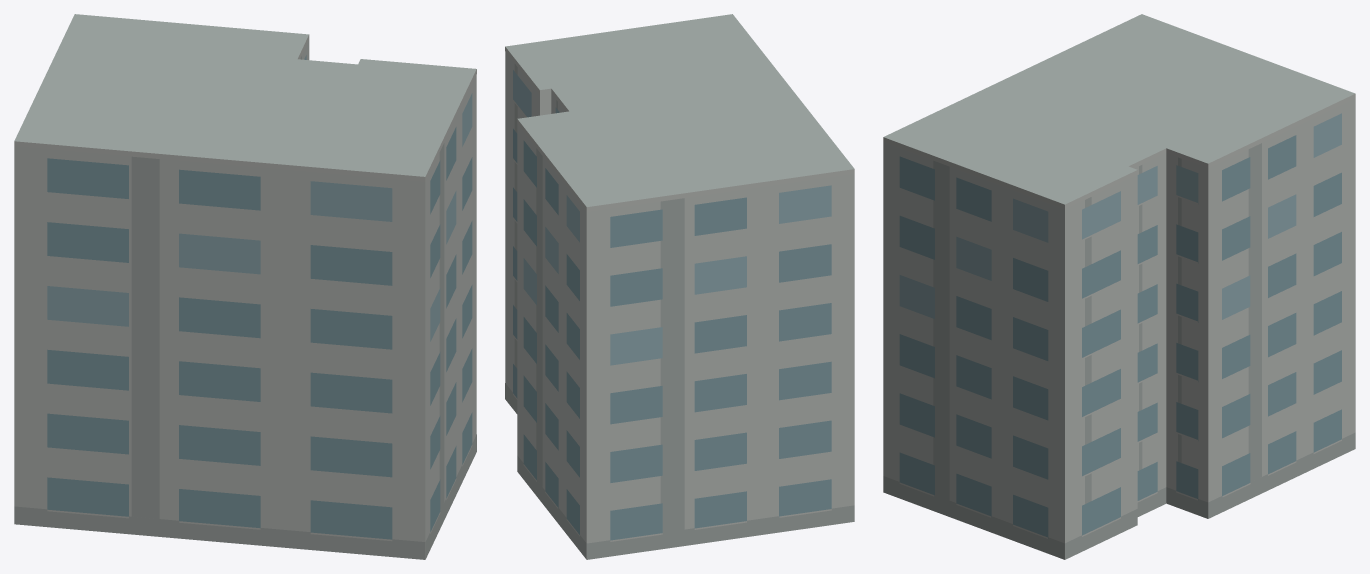
Rendered from survey-upis-32994053.glb.
3 views of the same model, side by side, from view 1: azimuth 30°, elevation 25°; view 2: azimuth 150°, elevation 25°; view 3: azimuth 270°, elevation 25° (orthographic). The views are drawn at different scales.
Visible parts, largest first — view 1: survey-upis-32994053.tmp; view 2: survey-upis-32994053.tmp; view 3: survey-upis-32994053.tmp.
Part boxes in pixels (x1,y1,x2,y2): survey-upis-32994053.tmp: [14, 14, 476, 559]; survey-upis-32994053.tmp: [505, 14, 854, 559]; survey-upis-32994053.tmp: [883, 14, 1355, 559].
Size of the model in its own units: 20.47 by 17.78 by 21.43.
